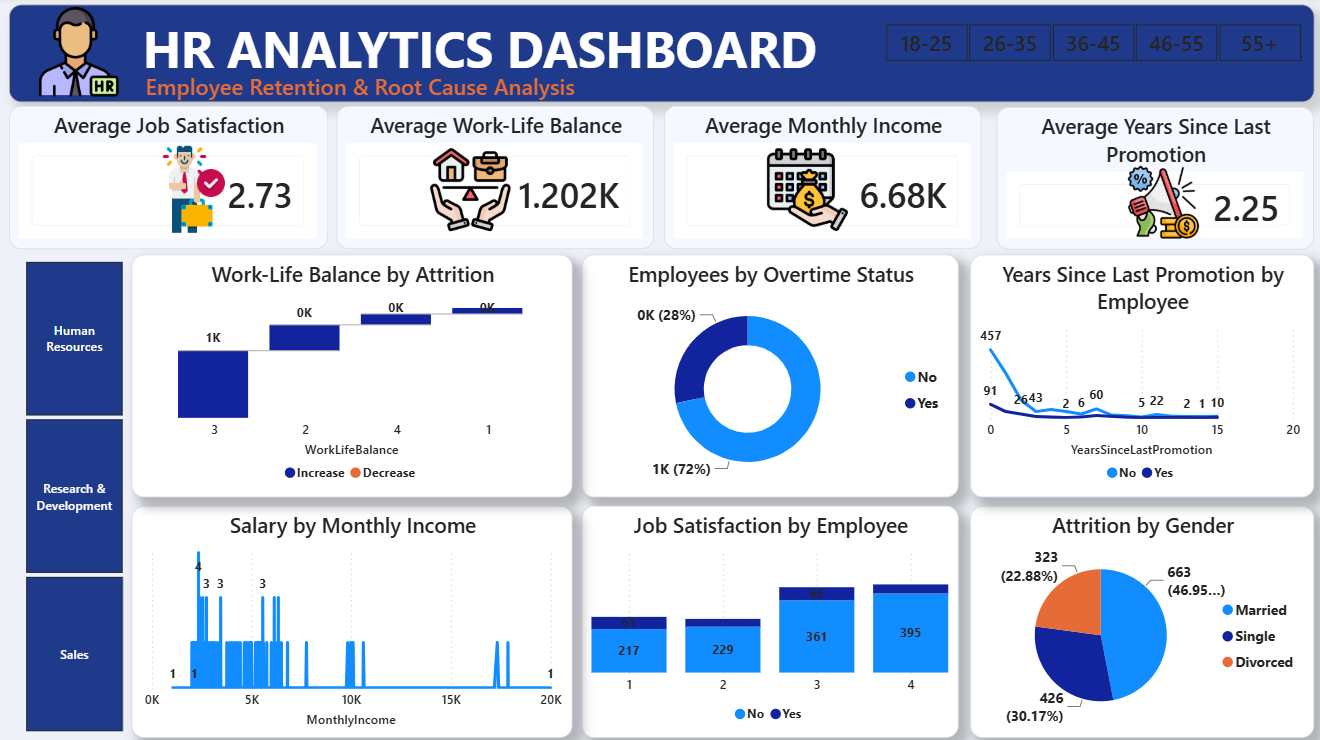

The page's visual inventory and layout, read from the dashboard file:
{"tool":"powerbi","page":{"name":"Employee Retention & Root Cause ","canvas":[1280,720],"ordinal":1},"visuals":[{"type":"textbox","box":[9.6,6.9,1259.7,94.7],"z":0},{"type":"cardVisual","title":"Average Job Satisfaction","fields":{"Data":["Avg(HR_Analytics.JobSatisfaction)"]},"box":[9.7,105,307.6,138.7],"z":1000},{"type":"cardVisual","title":"Average Work-Life Balance","fields":{"Data":["CountNonNull(HR_Analytics.EmployeeCount)"]},"box":[325.7,105,306.4,138.7],"z":2000},{"type":"cardVisual","title":"Average Monthly Income","fields":{"Data":["Avg(HR_Analytics.MonthlyIncome)"]},"box":[641.8,105,306.4,138.7],"z":3000},{"type":"cardVisual","title":"Average Years Since Last Promotion","fields":{"Data":["Avg(HR_Analytics.YearsSinceLastPromotion)"]},"box":[962.7,106.2,306.4,137.5],"z":4000},{"type":"donutChart","title":"Employees by Overtime Status","fields":{"Y":["CountNonNull(HR_Analytics.EmployeeCount)"],"Category":["HR_Analytics.OverTime"]},"box":[562.2,248.5,364.3,234],"z":5000},{"type":"columnChart","title":"Job Satisfaction by Employee","fields":{"Category":["HR_Analytics.JobSatisfaction"],"Series":["HR_Analytics.Attrition"],"Y":["CountNonNull(HR_Analytics.EmployeeCount)"]},"box":[562.2,491,364.3,224.4],"z":8000},{"type":"pieChart","title":"Attrition by Gender","fields":{"Category":["HR_Analytics.MaritalStatus"],"Y":["CountNonNull(HR_Analytics.Gender)"]},"box":[937.4,491,331.8,224.4],"z":9000},{"type":"lineChart","title":"Years Since Last Promotion by Employee","fields":{"Category":["HR_Analytics.YearsSinceLastPromotion"],"Y":["Sum(HR_Analytics.EmployeeCount)"],"Series":["HR_Analytics.Attrition"]},"box":[937.4,248.5,331.8,234],"z":10000},{"type":"slicer","fields":{"Values":["HR_Analytics.Department"]},"box":[0,248.5,143.6,466.9],"z":12000},{"type":"slicer","fields":{"Values":["HR_Analytics.AgeGroup"]},"box":[830,18.8,450,47.5],"z":13000},{"type":"image","box":[26.2,10,101.2,86.2],"z":14000},{"type":"textbox","box":[136,66,425.9,39.8],"z":15000},{"type":"image","box":[87.5,137.5,200,96.2],"z":16000},{"type":"image","box":[406.2,145,96.2,82.5],"z":17000},{"type":"image","box":[731.2,145,98.8,82.5],"z":18000},{"type":"image","box":[1075,161.2,97.5,72.5],"z":19000},{"type":"areaChart","title":"Salary by Monthly Income","fields":{"Category":["HR_Analytics.MonthlyIncome"],"Y":["CountNonNull(HR_Analytics.SalarySlab)"]},"box":[127.9,491,425.9,224],"z":20000},{"type":"waterfallChart","title":"Work-Life Balance by Attrition","fields":{"Category":["HR_Analytics.WorkLifeBalance"],"Y":["CountNonNull(HR_Analytics.Attrition)"]},"box":[127.9,248.5,425.9,234],"z":22000}]}

Visuals, with their boxes in screenshot pixels (x1, y1, x2, y2), scaled from the page's 1280x720 canvas onto the 1320x740 screenshot:
textbox: [left=10, top=7, right=1309, bottom=104]
"Average Job Satisfaction" cardVisual: [left=10, top=108, right=327, bottom=250]
"Average Work-Life Balance" cardVisual: [left=336, top=108, right=652, bottom=250]
"Average Monthly Income" cardVisual: [left=662, top=108, right=978, bottom=250]
"Average Years Since Last Promotion" cardVisual: [left=993, top=109, right=1309, bottom=250]
"Employees by Overtime Status" donutChart: [left=580, top=255, right=955, bottom=496]
"Job Satisfaction by Employee" columnChart: [left=580, top=505, right=955, bottom=735]
"Attrition by Gender" pieChart: [left=967, top=505, right=1309, bottom=735]
"Years Since Last Promotion by Employee" lineChart: [left=967, top=255, right=1309, bottom=496]
slicer - HR_Analytics.Department: [left=0, top=255, right=148, bottom=735]
slicer - HR_Analytics.AgeGroup: [left=856, top=19, right=1319, bottom=68]
image: [left=27, top=10, right=131, bottom=99]
textbox: [left=140, top=68, right=579, bottom=109]
image: [left=90, top=141, right=296, bottom=240]
image: [left=419, top=149, right=518, bottom=234]
image: [left=754, top=149, right=856, bottom=234]
image: [left=1109, top=166, right=1209, bottom=240]
"Salary by Monthly Income" areaChart: [left=132, top=505, right=571, bottom=735]
"Work-Life Balance by Attrition" waterfallChart: [left=132, top=255, right=571, bottom=496]
